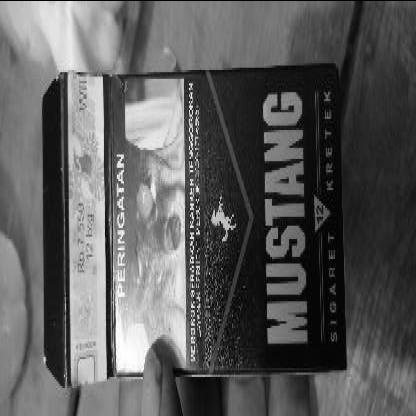objects: (43, 63, 346, 387)
